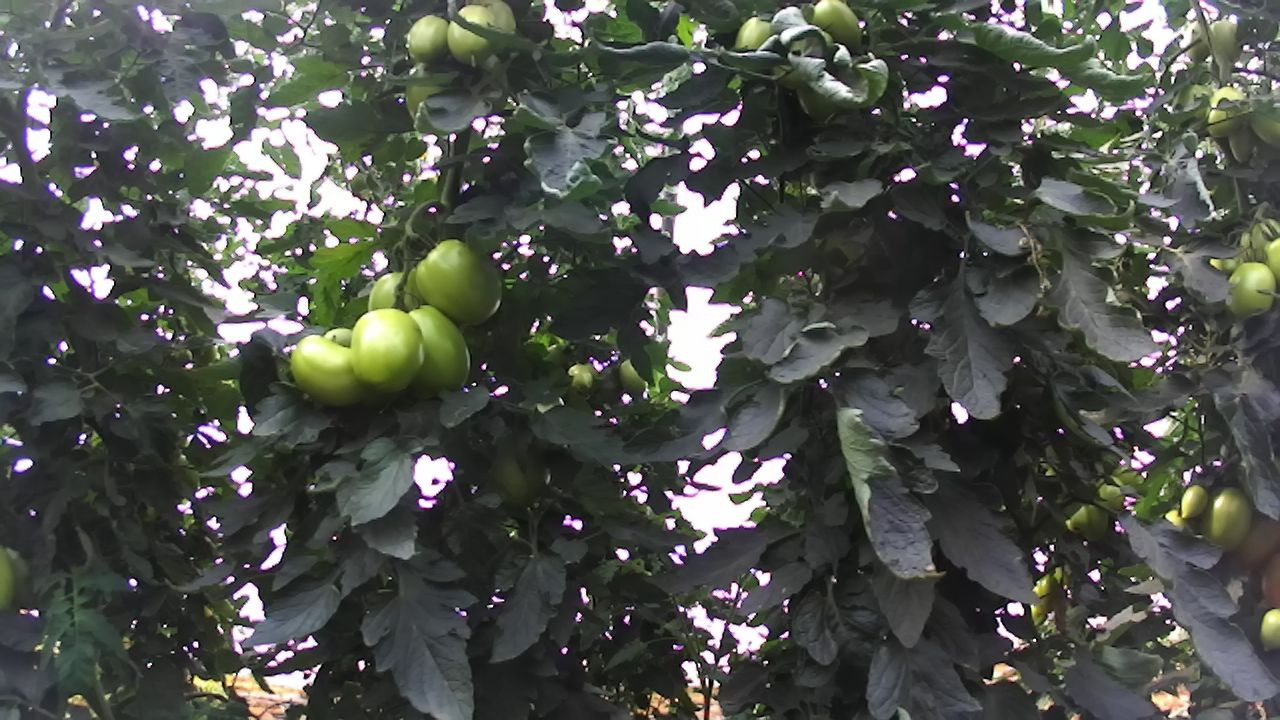tomato: (413, 238, 510, 330), (399, 302, 476, 400), (345, 303, 423, 399), (286, 333, 368, 408), (440, 1, 502, 70), (1220, 257, 1280, 325), (1200, 484, 1255, 554), (803, 0, 869, 58), (405, 11, 451, 66), (1174, 481, 1213, 523)
